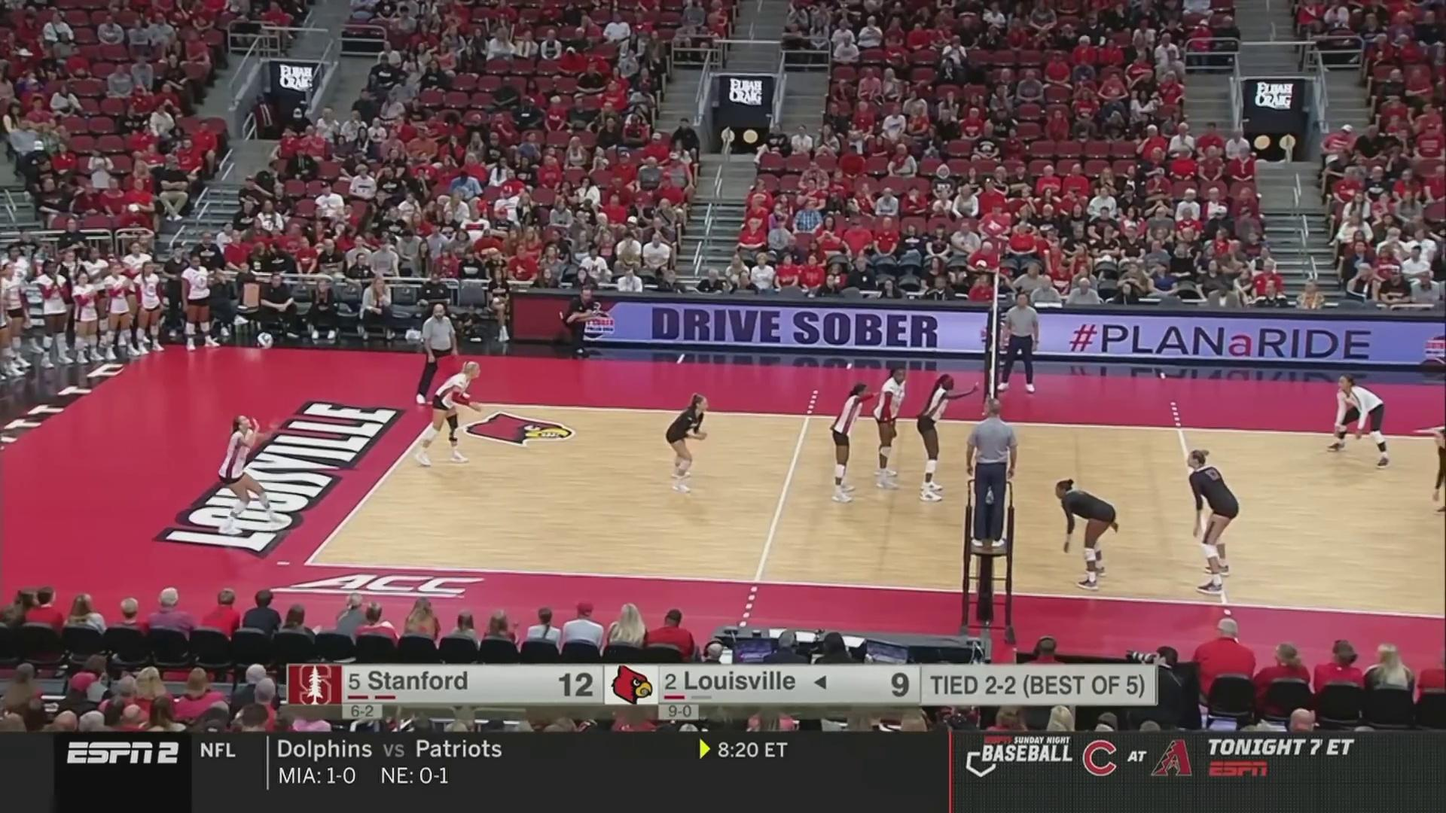player: (219, 412, 287, 542), (1186, 451, 1241, 593), (1058, 481, 1122, 591), (414, 365, 481, 469), (830, 381, 885, 503), (918, 371, 965, 503), (1328, 379, 1391, 469), (874, 361, 912, 495), (665, 396, 712, 492), (1414, 410, 1446, 516)
refree: (964, 397, 1016, 549), (411, 299, 465, 410), (1000, 287, 1040, 392)
